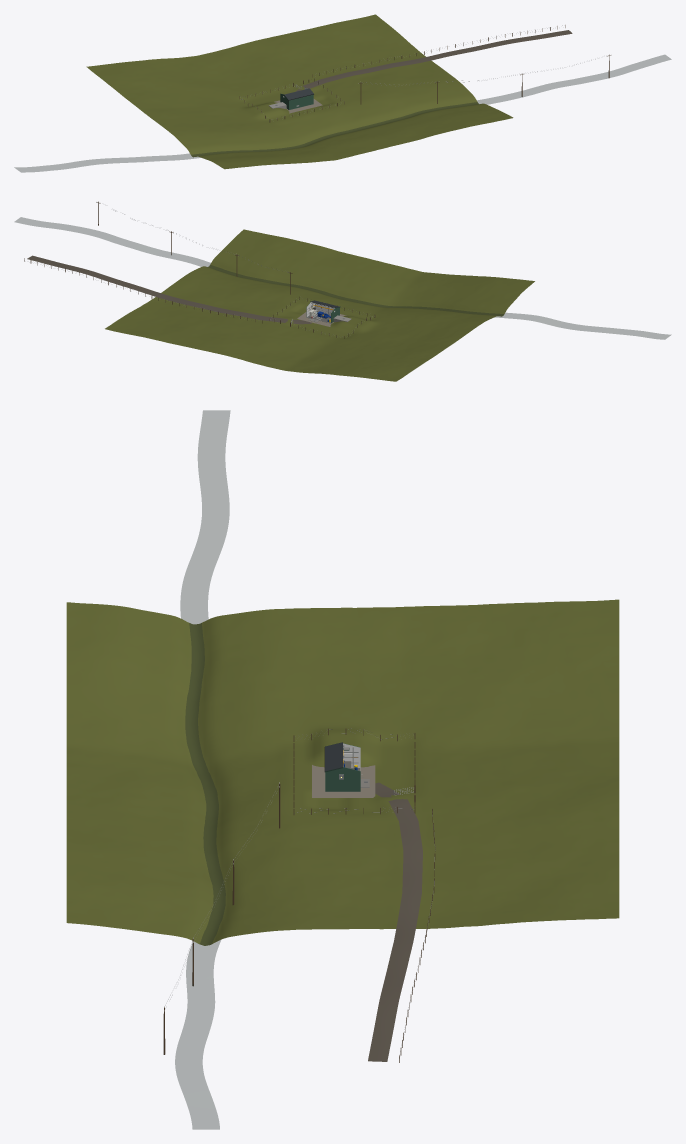
The model's file is bln_powerhouse_cutaway.glb.
3 views of the same model, one above another, from view 1: azimuth 30°, elevation 25°; view 2: azimuth 150°, elevation 25°; view 3: azimuth 270°, elevation 25° (orthographic). The views are drawn at different scales.
Visible parts, largest first — view 1: terrain_web, burn_water, track; view 2: terrain_web, burn_water, track; view 3: terrain_web, burn_water, track, gravel_band.
Part boxes in pixels (x1,y1,x2,y2): terrain_web: (86, 14, 513, 169); burn_water: (14, 55, 671, 172); track: (295, 30, 572, 91); terrain_web: (105, 229, 534, 381); burn_water: (15, 217, 670, 339); track: (27, 255, 311, 324); terrain_web: (66, 599, 619, 945); burn_water: (175, 410, 230, 1129); track: (368, 782, 422, 1061); gravel_band: (312, 765, 375, 797).
Size of what is drawn, in the model's own units: 260 by 17.05 by 96.
